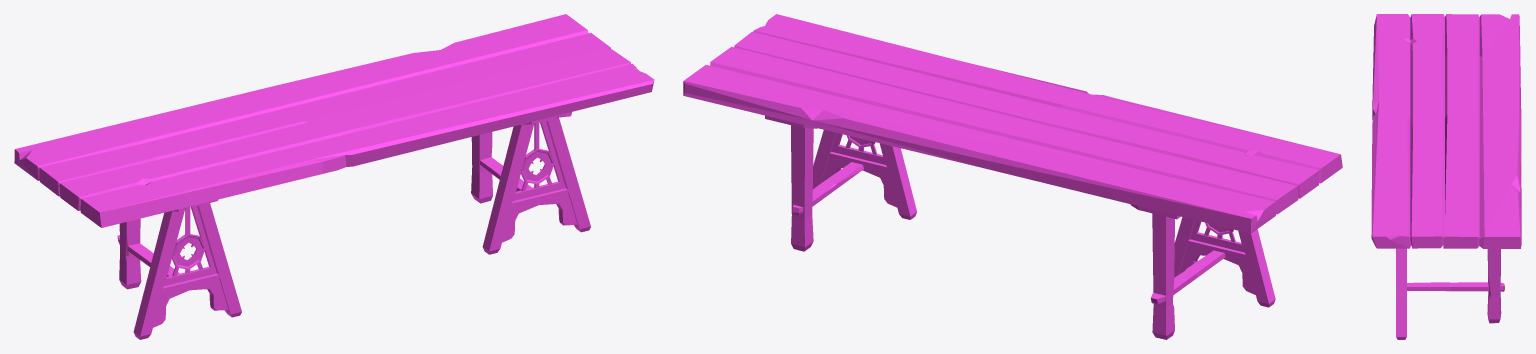
The model's file is SM_Table_Fancy_B_Fantasy.fbx.
3 views of the same model, side by side, from view 1: azimuth 30°, elevation 25°; view 2: azimuth 150°, elevation 25°; view 3: azimuth 270°, elevation 25° (orthographic). The views are drawn at different scales.
Parts seen in each view (by area): view 1: SM_Table_Fancy_B_Fantasy; view 2: SM_Table_Fancy_B_Fantasy; view 3: SM_Table_Fancy_B_Fantasy.
Part boxes in pixels (box(x1,y1,x2,y2)): SM_Table_Fancy_B_Fantasy: box(14, 14, 654, 339); SM_Table_Fancy_B_Fantasy: box(683, 14, 1342, 339); SM_Table_Fancy_B_Fantasy: box(1371, 14, 1521, 339).
Size of the model in its own units: 3.09 by 0.8 by 0.8775.
